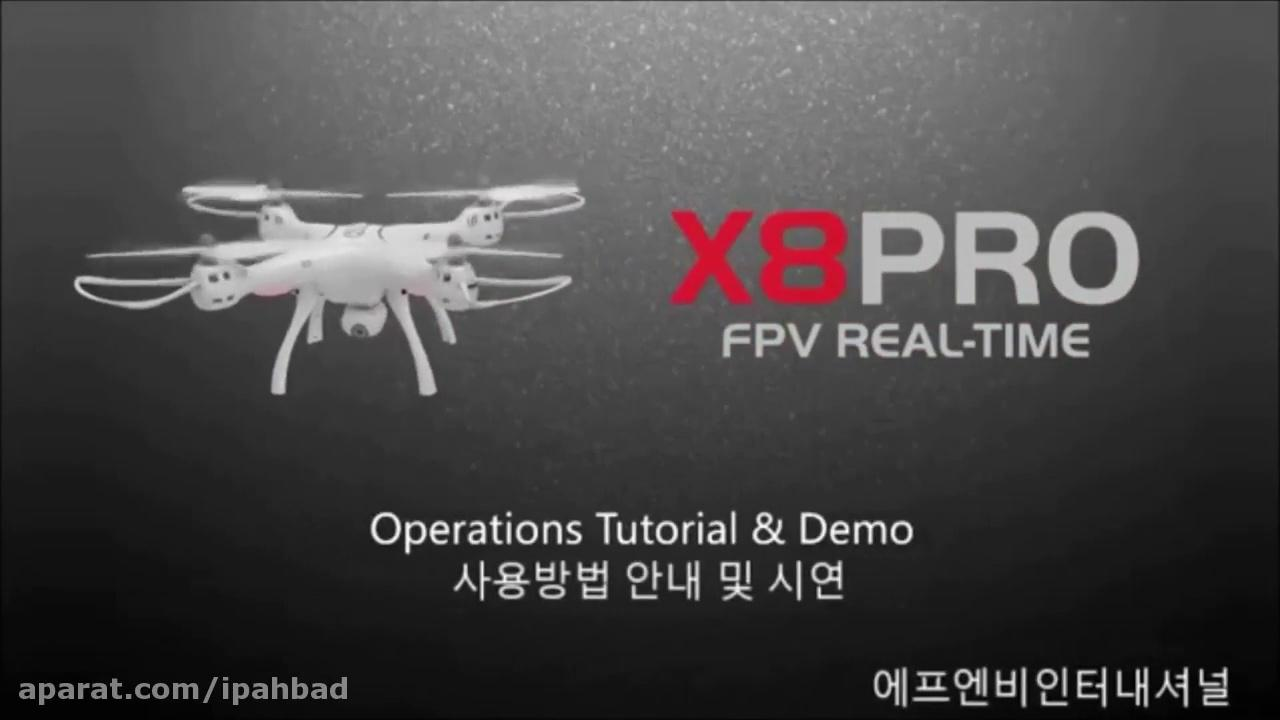drone: (72, 179, 585, 399)
